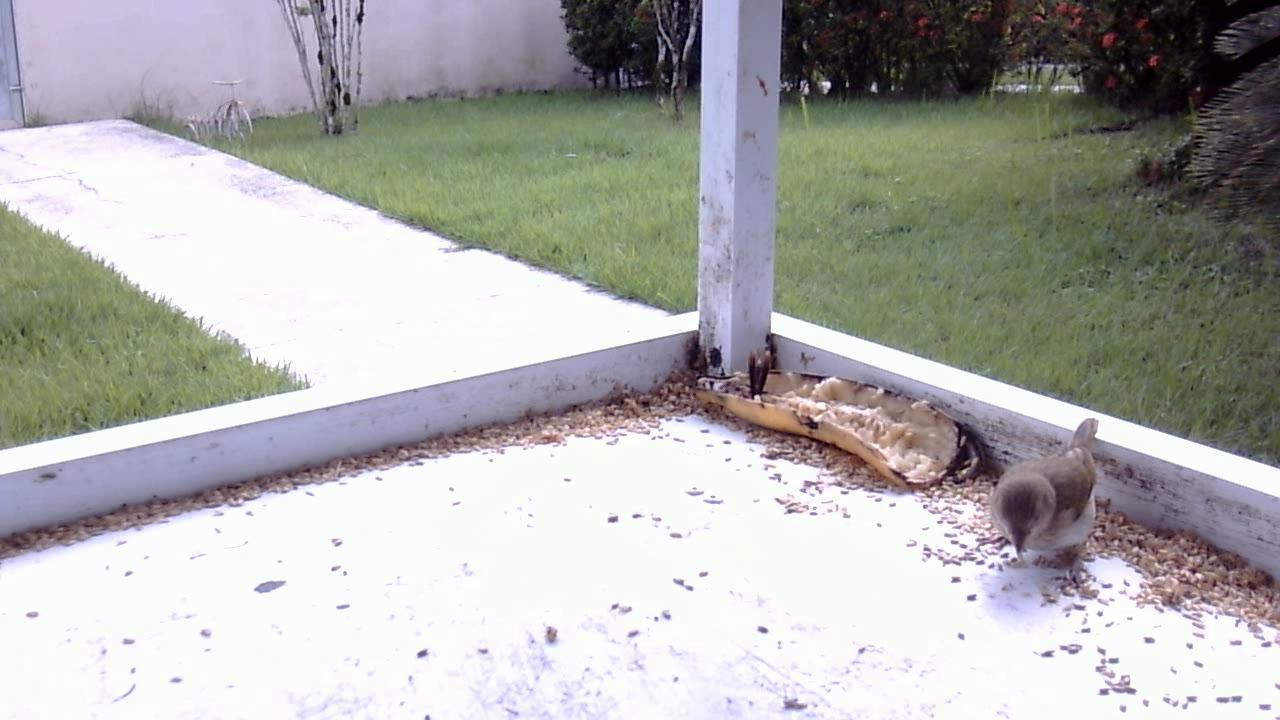canario_do_amazonas: (978, 411, 1105, 587)
